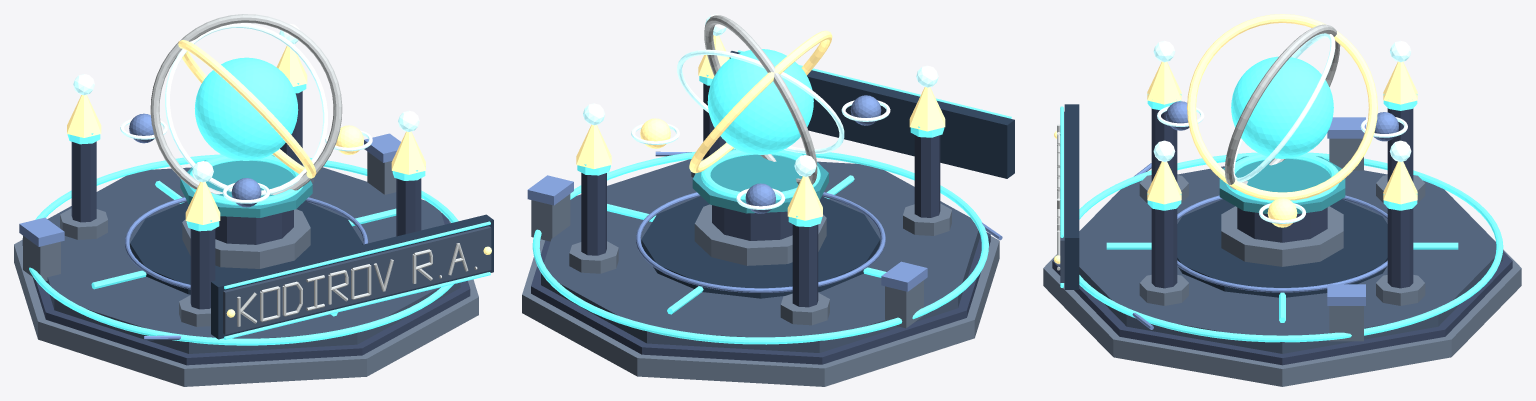
Rendered from kodirov_neon_lab.glb.
3 views of the same model, side by side, from view 1: azimuth 30°, elevation 25°; view 2: azimuth 150°, elevation 25°; view 3: azimuth 270°, elevation 25° (orthographic). The views are drawn at different scales.
Visible parts, largest first — view 1: upper_deck_octagon_003, base_outer_octagon_001, nameplate_inlay_047, energy_core_015, platform_center_disk_004, base_inner_octagon_002, perimeter_cyan_light_005, orbital_ring_A_017, nameplate_frame_046, projector_cap_013, projector_foot_011, orbital_ring_B_018 (+24 smaller); view 2: upper_deck_octagon_003, base_outer_octagon_001, platform_center_disk_004, nameplate_frame_046, energy_core_015, base_inner_octagon_002, perimeter_cyan_light_005, projector_cap_013, projector_foot_011, orbital_ring_B_018, orbital_ring_A_017, inner_circuit_trim_006 (+22 smaller); view 3: upper_deck_octagon_003, base_outer_octagon_001, platform_center_disk_004, energy_core_015, base_inner_octagon_002, perimeter_cyan_light_005, orbital_ring_B_018, projector_foot_011, projector_cap_013, nameplate_frame_046, orbital_ring_A_017, tower_1_body_021 (+23 smaller).
Boxes of the visible parts, left/top/right/bottom form: upper_deck_octagon_003: left=46, top=167, right=460, bottom=353; base_outer_octagon_001: left=14, top=220, right=478, bottom=386; nameplate_inlay_047: left=223, top=226, right=491, bottom=334; energy_core_015: left=194, top=57, right=298, bottom=160; platform_center_disk_004: left=130, top=201, right=362, bottom=294; base_inner_octagon_002: left=22, top=212, right=470, bottom=365; perimeter_cyan_light_005: left=29, top=154, right=458, bottom=345; orbital_ring_A_017: left=150, top=14, right=342, bottom=194; nameplate_frame_046: left=211, top=214, right=493, bottom=339; projector_cap_013: left=180, top=155, right=312, bottom=217; projector_foot_011: left=182, top=209, right=310, bottom=268; orbital_ring_B_018: left=178, top=40, right=316, bottom=178; upper_deck_octagon_003: left=541, top=159, right=980, bottom=352; base_outer_octagon_001: left=522, top=236, right=999, bottom=386; platform_center_disk_004: left=641, top=196, right=880, bottom=298; nameplate_frame_046: left=729, top=51, right=1014, bottom=178; energy_core_015: left=707, top=49, right=813, bottom=154; base_inner_octagon_002: left=531, top=232, right=990, bottom=364; perimeter_cyan_light_005: left=532, top=148, right=988, bottom=344; projector_cap_013: left=692, top=149, right=828, bottom=213; projector_foot_011: left=694, top=204, right=826, bottom=265; orbital_ring_B_018: left=689, top=30, right=832, bottom=173; orbital_ring_A_017: left=704, top=15, right=817, bottom=184; inner_circuit_trim_006: left=636, top=192, right=885, bottom=292; upper_deck_octagon_003: left=1079, top=166, right=1502, bottom=353; base_outer_octagon_001: left=1043, top=197, right=1521, bottom=386; platform_center_disk_004: left=1177, top=199, right=1387, bottom=297; energy_core_015: left=1231, top=56, right=1333, bottom=158; base_inner_octagon_002: left=1052, top=251, right=1512, bottom=365; perimeter_cyan_light_005: left=1079, top=152, right=1503, bottom=342; orbital_ring_B_018: left=1187, top=14, right=1377, bottom=200; projector_foot_011: left=1221, top=206, right=1343, bottom=266; projector_cap_013: left=1219, top=156, right=1345, bottom=214; nameplate_frame_046: left=1064, top=104, right=1079, bottom=289; orbital_ring_A_017: left=1224, top=24, right=1340, bottom=189; tower_1_body_021: left=1151, top=208, right=1177, bottom=288.
Size of the model in its own units: 4.84 by 2.9 by 4.84.
